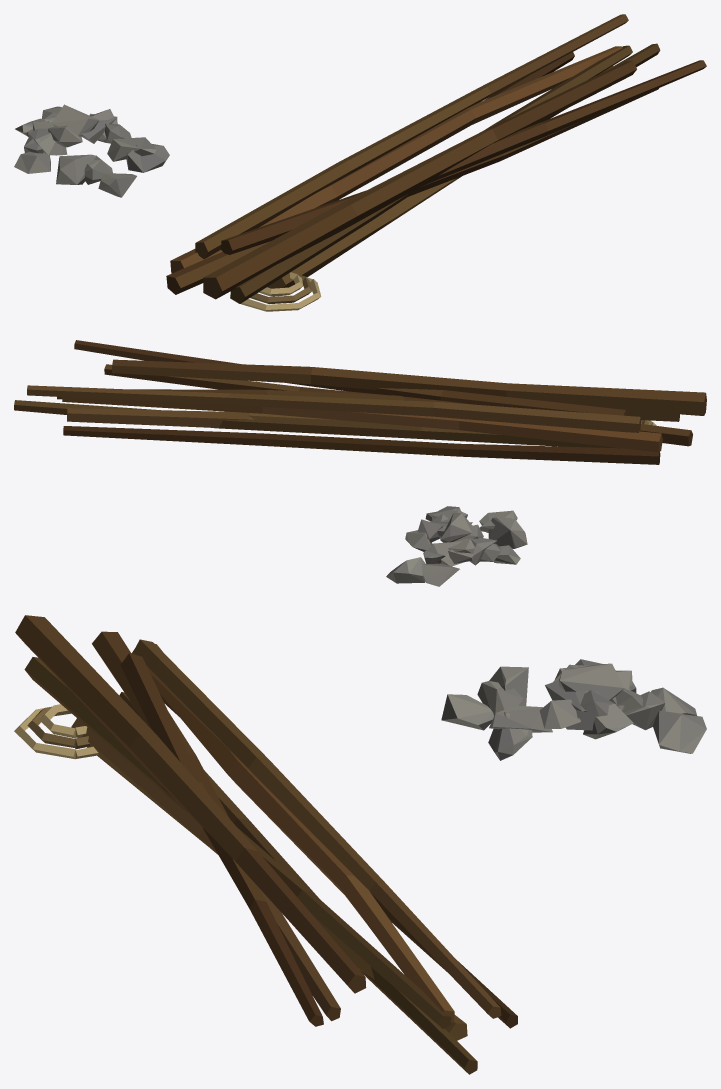
The model's file is stick_tent_0_cantiere.glb.
3 renders of one model, top to bottom at view 1: azimuth 30°, elevation 25°; view 2: azimuth 150°, elevation 25°; view 3: azimuth 270°, elevation 25°, orthographic. The views are drawn at different scales.
Visible parts, largest first — view 1: stick_tent_0_cantiere; view 2: stick_tent_0_cantiere; view 3: stick_tent_0_cantiere.
Boxes of the visible parts, <box> form: stick_tent_0_cantiere: <box>14,14,706,311</box>; stick_tent_0_cantiere: <box>14,340,706,586</box>; stick_tent_0_cantiere: <box>14,615,706,1074</box>.
Bounding box in the file's own units: 4.52 × 0.4041 × 3.25.
